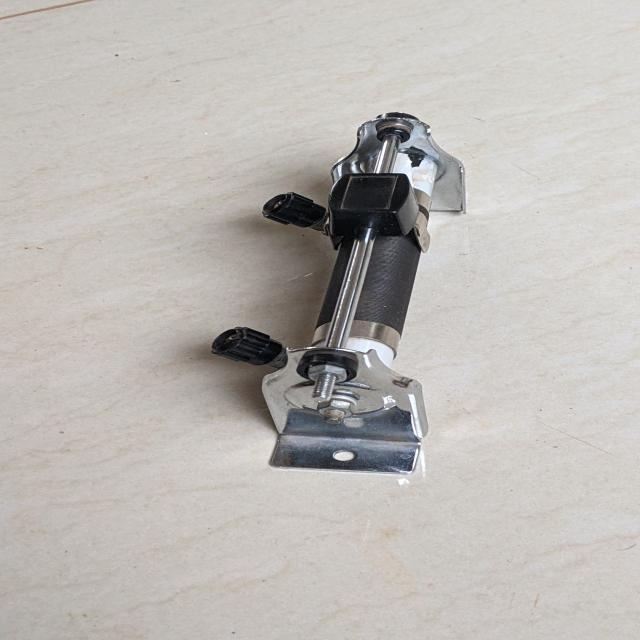Rheostat: (182, 100, 489, 491)
